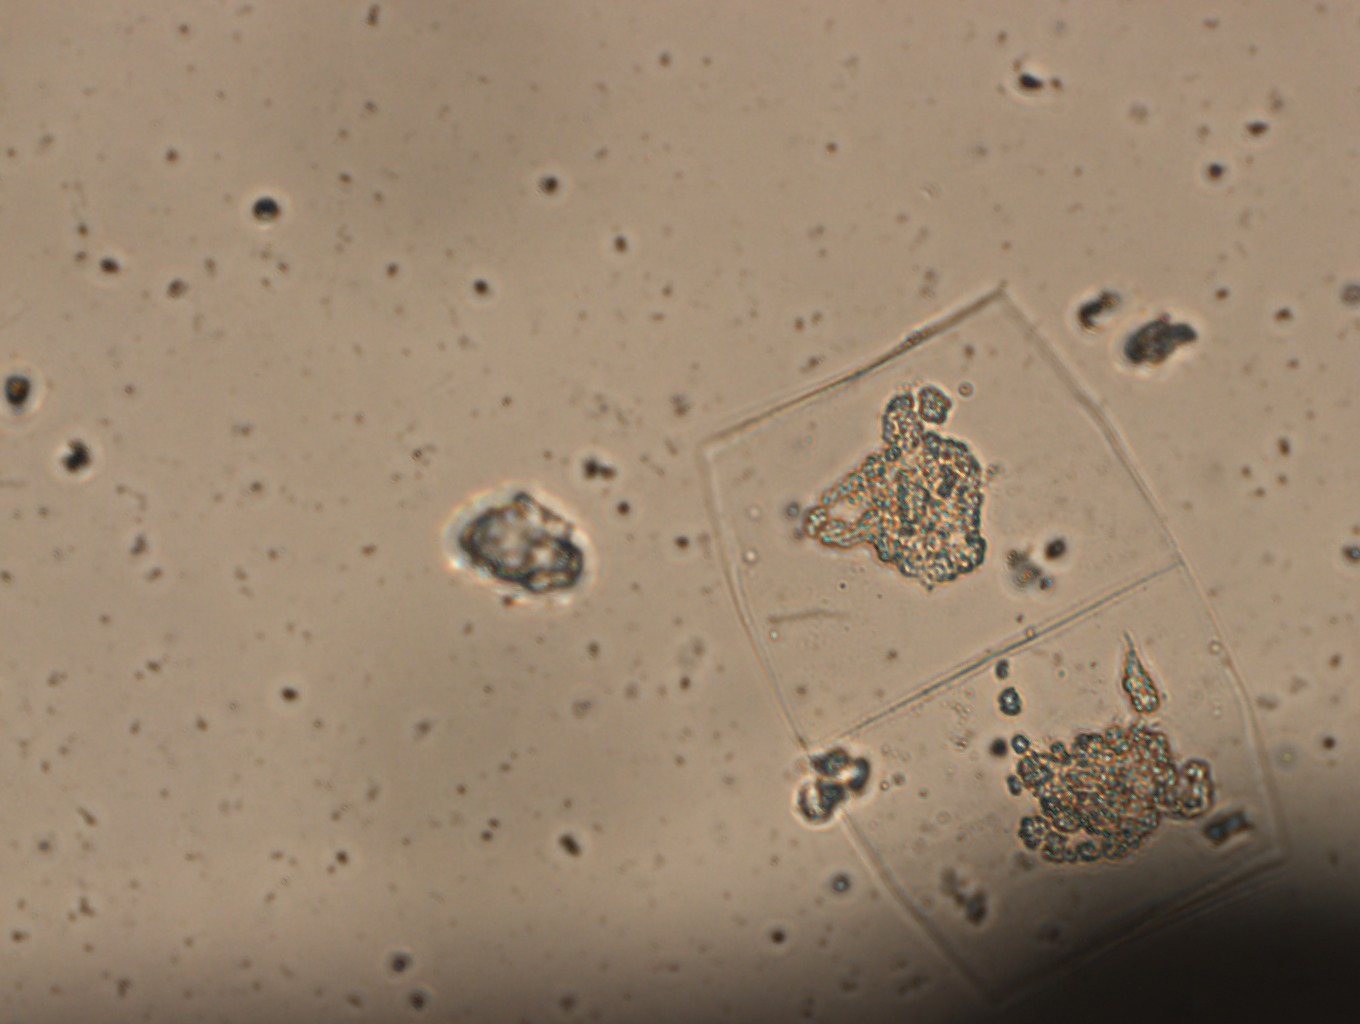helicotheca: (700, 290, 1295, 1006)
